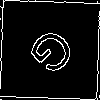G: (25, 25, 86, 85)
